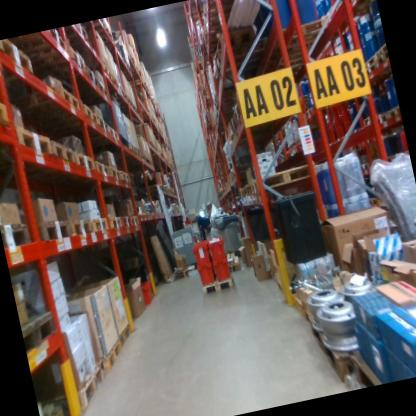pallet: (307, 304, 367, 383), (248, 155, 316, 203), (37, 370, 107, 412), (209, 20, 271, 63), (25, 80, 80, 128), (0, 36, 35, 87), (17, 304, 57, 348), (25, 27, 69, 63), (17, 123, 52, 166), (348, 349, 386, 388), (280, 19, 326, 51), (34, 215, 75, 249), (0, 219, 33, 257), (48, 135, 76, 173), (92, 343, 124, 372), (201, 271, 234, 296), (95, 157, 121, 184), (73, 148, 96, 178), (71, 215, 96, 241), (69, 47, 86, 78), (114, 324, 136, 347), (229, 96, 247, 124), (90, 215, 111, 237), (82, 101, 98, 129), (38, 400, 65, 416), (96, 113, 110, 139), (362, 53, 380, 68), (121, 215, 135, 234), (373, 39, 388, 56), (107, 212, 120, 231), (376, 108, 392, 123), (365, 62, 380, 77), (88, 69, 99, 89), (108, 125, 119, 145), (117, 168, 129, 186), (349, 0, 373, 8), (387, 103, 399, 118), (377, 51, 388, 64), (131, 218, 140, 232)
small_load_carrier: (205, 231, 230, 260), (210, 255, 234, 283), (189, 239, 211, 266), (194, 262, 217, 286), (138, 276, 155, 303)
